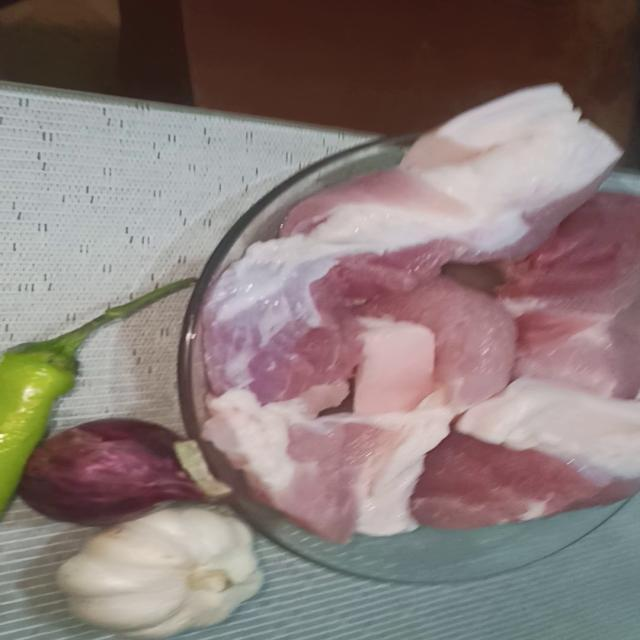chili_pepper: (0, 279, 187, 513)
garlic: (35, 501, 343, 640)
onion: (33, 413, 225, 525)
pork: (278, 92, 578, 277), (468, 177, 640, 397), (166, 245, 367, 408), (450, 392, 640, 522), (231, 397, 418, 512)
